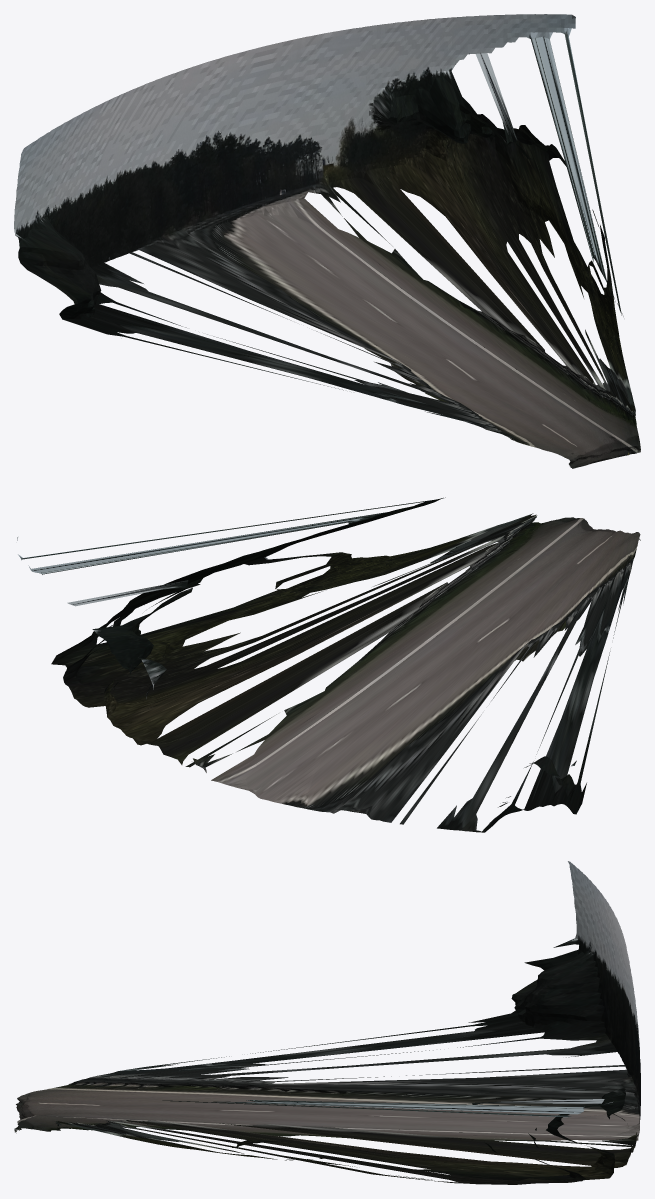
3 renders of one model, top to bottom at view 1: azimuth 30°, elevation 25°; view 2: azimuth 150°, elevation 25°; view 3: azimuth 270°, elevation 25°, orthographic. The views are drawn at different scales.
Parts seen in each view (by area): view 1: defaultobject; view 2: defaultobject; view 3: defaultobject.
Part boxes in pixels (box(x1,y1,x2,y2)): defaultobject: box(14, 14, 640, 468); defaultobject: box(17, 497, 640, 832); defaultobject: box(14, 861, 640, 1184).
Bounding box in the file's own units: 40.86 × 12.4 × 44.39.
Materials: 1 (1 with a texture image).
